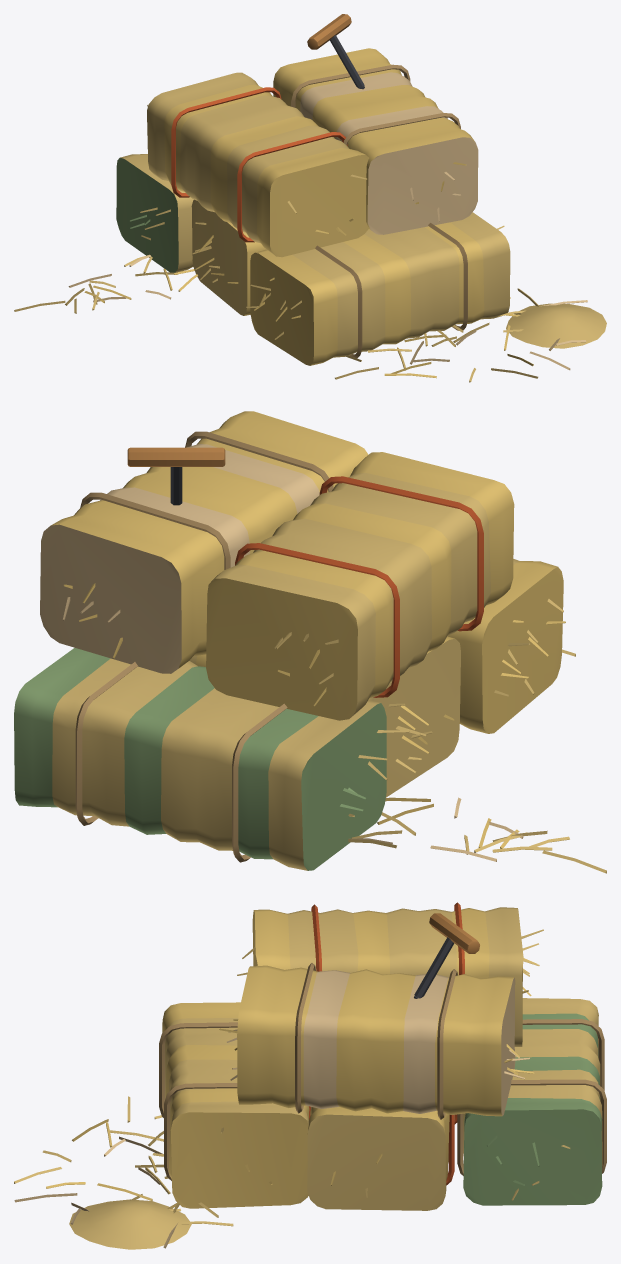
File: deco_fodder_bales.fbx
3 renders of one model, top to bottom at view 1: azimuth 30°, elevation 25°; view 2: azimuth 150°, elevation 25°; view 3: azimuth 270°, elevation 25°, orthographic. The views are drawn at different scales.
Visible parts, largest first — view 1: FodderBales_Bale4, FodderBales_Bale1, FodderBales_Bale5, FodderBales_LooseStraw, FodderBales_Bale3, FodderBales_Bale2, FodderBales_HayHook; view 2: FodderBales_Bale3, FodderBales_Bale4, FodderBales_Bale5, FodderBales_Bale1, FodderBales_Bale2, FodderBales_LooseStraw, FodderBales_HayHook; view 3: FodderBales_Bale5, FodderBales_Bale3, FodderBales_Bale1, FodderBales_Bale4, FodderBales_Bale2, FodderBales_LooseStraw, FodderBales_HayHook.
Part boxes in pixels (x1,y1,x2,y2): FodderBales_Bale4: (147,72,369,257); FodderBales_Bale1: (246,212,510,365); FodderBales_Bale5: (273,48,478,234); FodderBales_LooseStraw: (14,254,606,382); FodderBales_Bale3: (116,154,193,272); FodderBales_Bale2: (191,199,266,315); FodderBales_HayHook: (307,14,364,89); FodderBales_Bale3: (14,648,409,870); FodderBales_Bale4: (206,452,514,720); FodderBales_Bale5: (40,411,368,673); FodderBales_Bale1: (447,559,565,733); FodderBales_Bale2: (189,636,460,797); FodderBales_LooseStraw: (348,649,606,873); FodderBales_HayHook: (127,447,225,505); FodderBales_Bale5: (219,963,534,1119); FodderBales_Bale3: (457,998,606,1205); FodderBales_Bale1: (159,1002,311,1208); FodderBales_Bale4: (233,902,543,1046); FodderBales_Bale2: (307,1106,457,1210); FodderBales_LooseStraw: (14,1096,233,1249); FodderBales_HayHook: (414,913,479,998).
Bounding box in the file's own units: 253 × 122 × 258.
